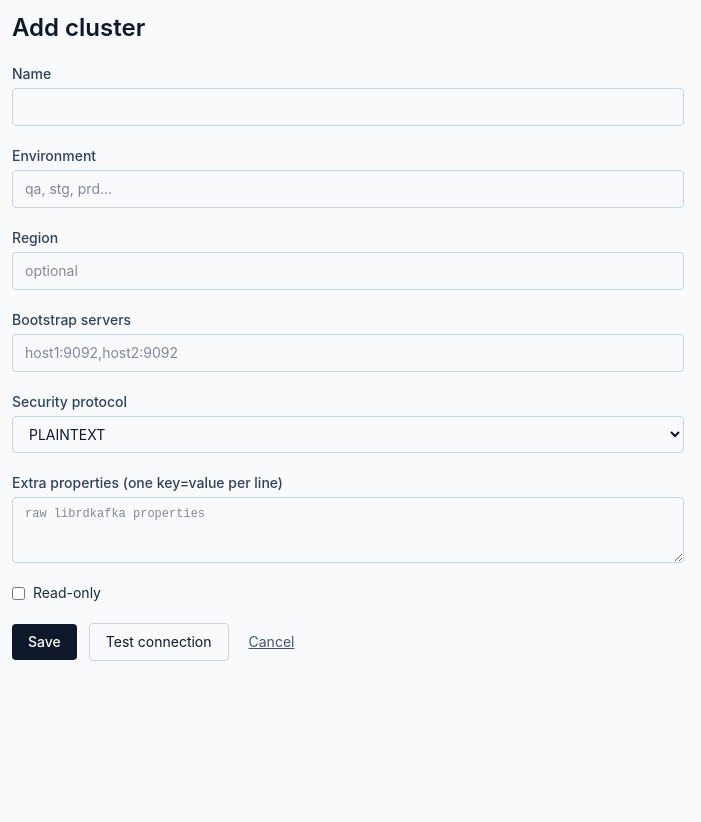
Test: ClusterForm test connection › clears a stale "Connection OK" once the security protocol is changed
Type "dev" into the field labelled "Name" at (348, 107), box [12,88,684,126]
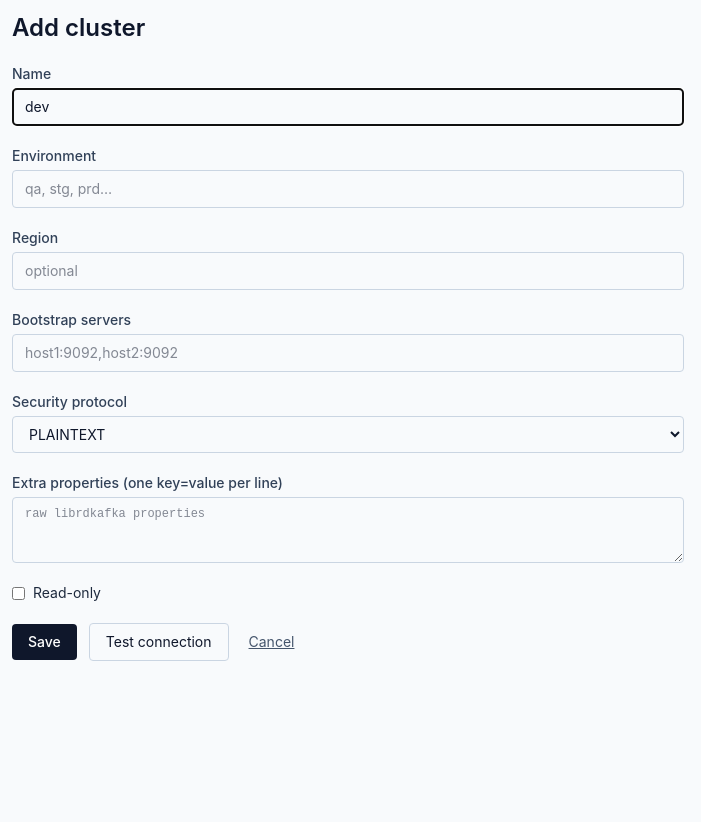
Type "dev" into the field labelled "Environment" at (348, 189), box [12,170,684,208]
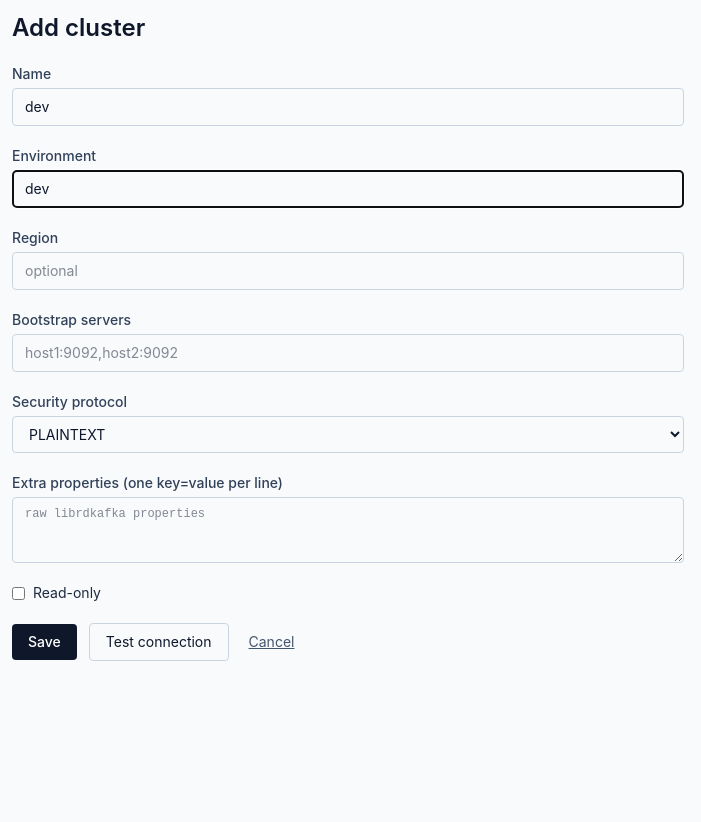
Type "localhost:9092" into the field labelled "Bootstrap servers" at (348, 353), box [12,334,684,372]
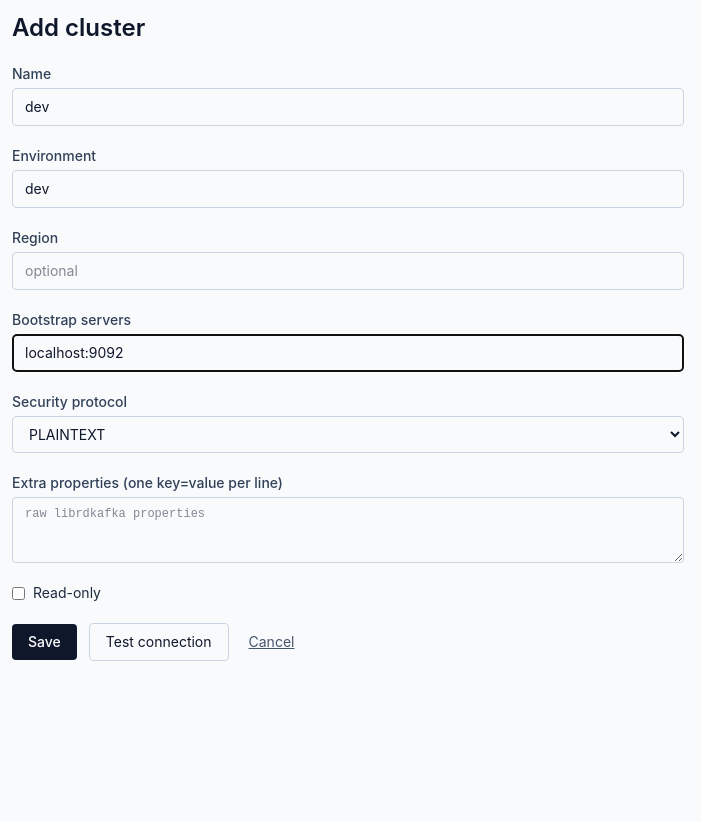
Click the button "Test connection" at (159, 642), box [89,623,229,661]
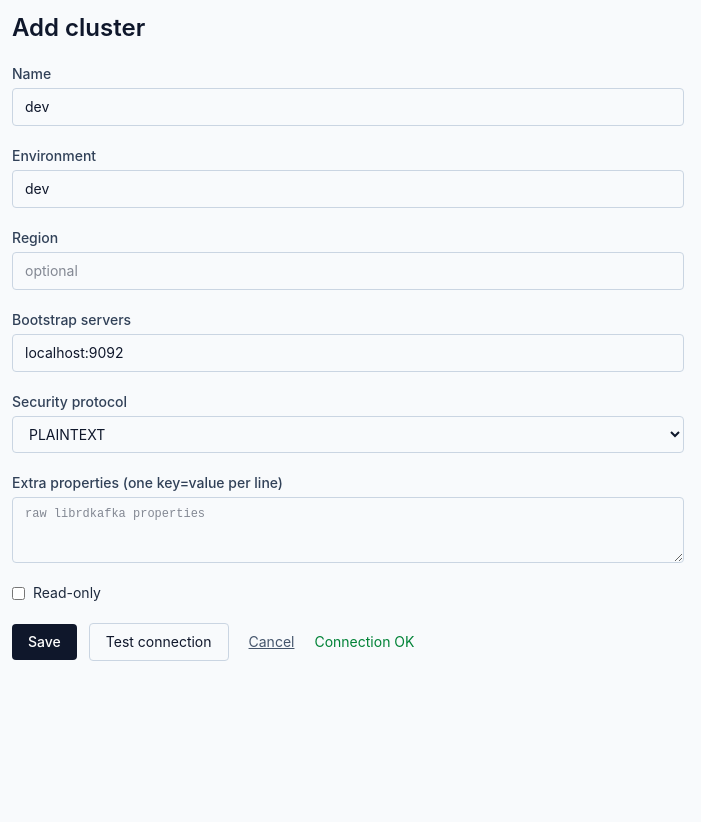
expect the text "Connection OK" is shown: met, box [314,633,414,650]
Select "SSL" in the dropdown labelled "Security protocol" at (348, 434), box [12,416,684,453]
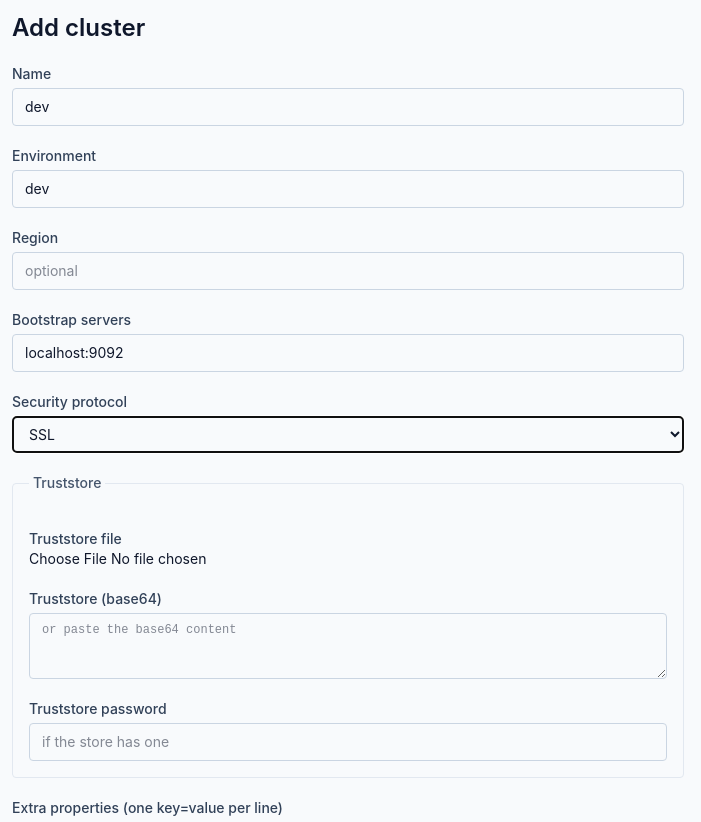
expect the text "Connection OK" is gone: met
